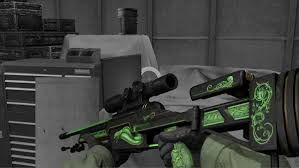gun: (57, 69, 298, 159)
